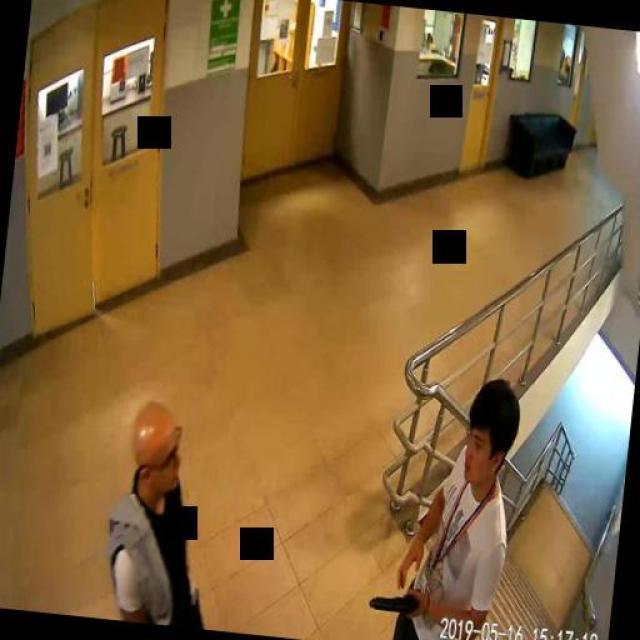gun: (366, 581, 420, 619)
